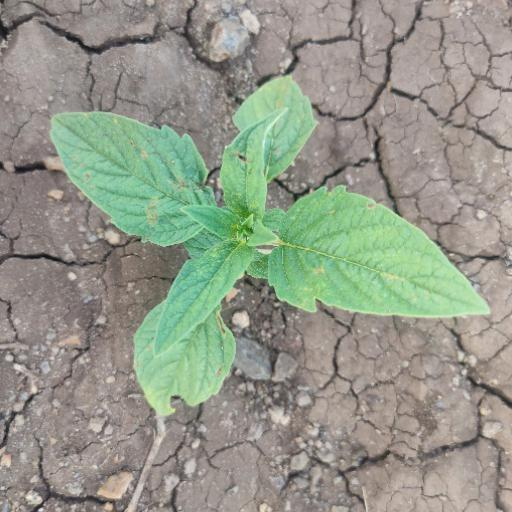crop: (46, 71, 492, 452)
